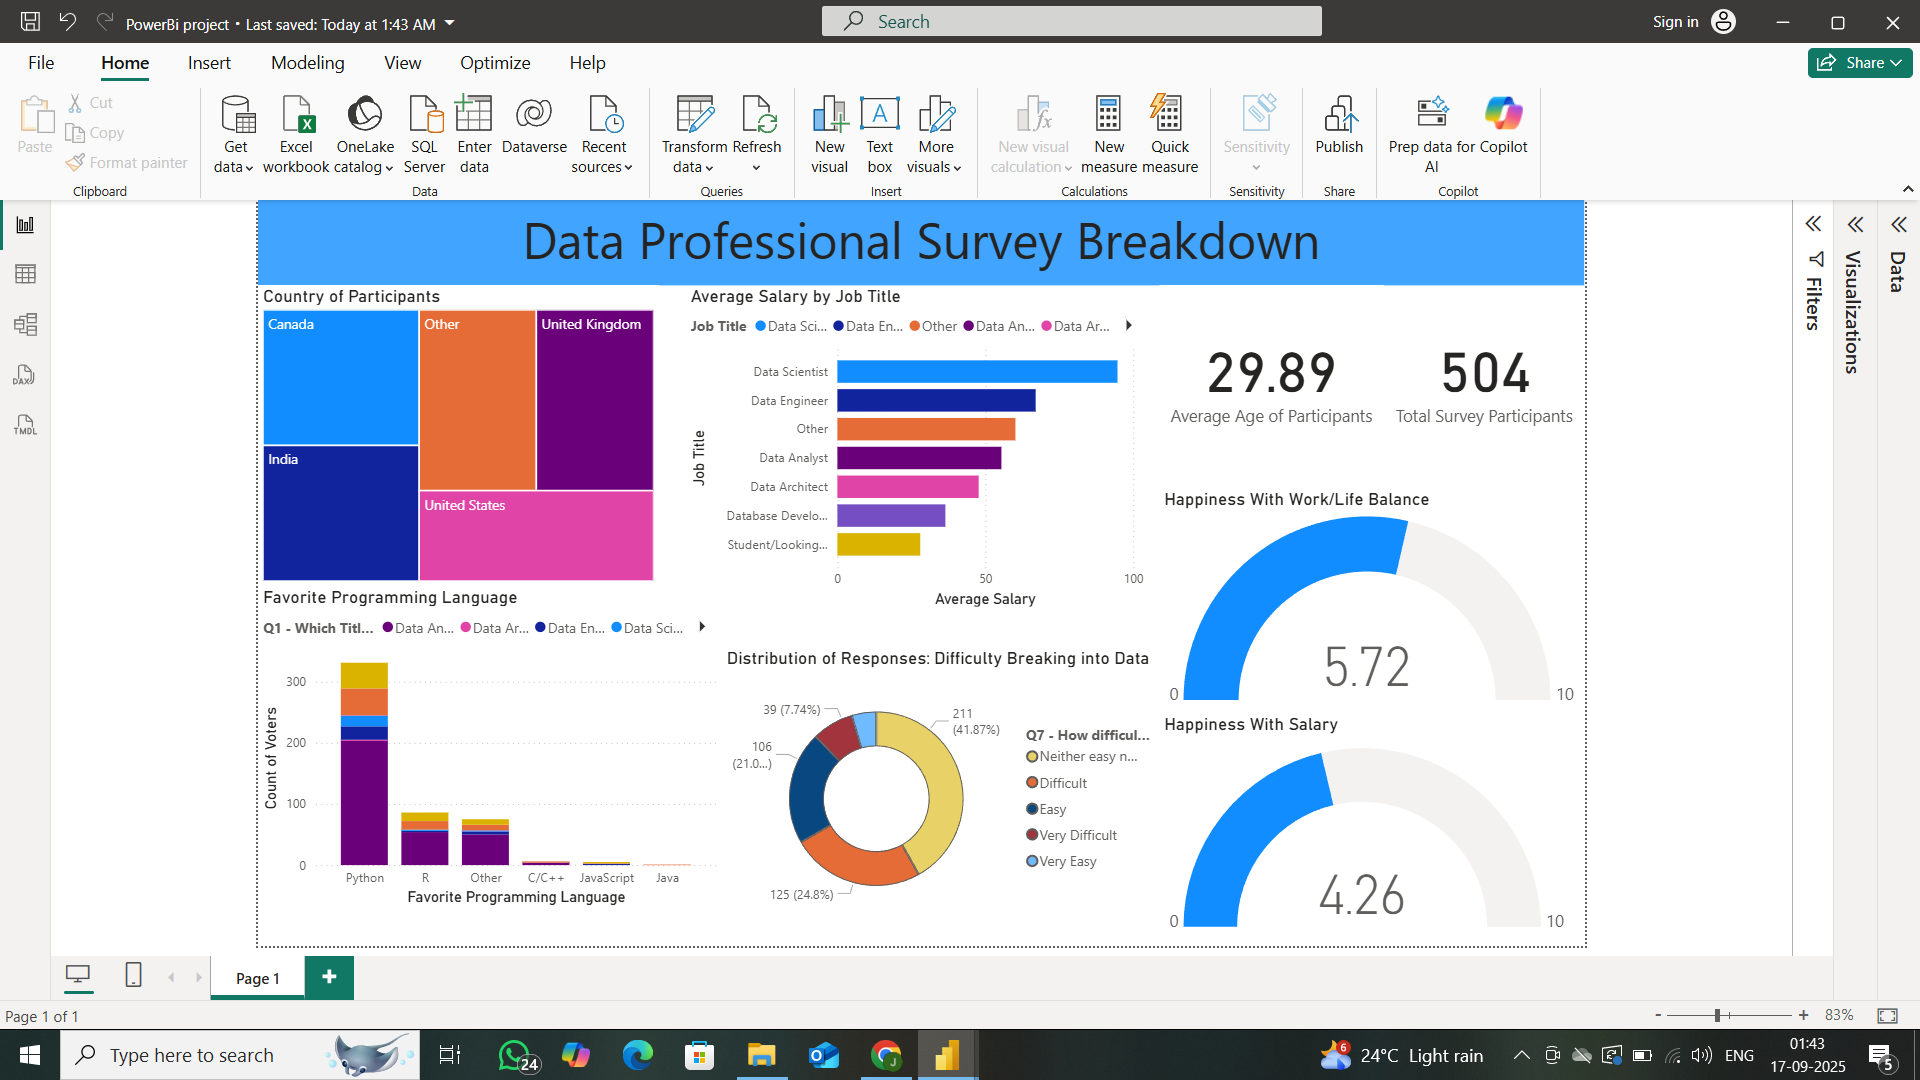

The page's visual inventory and layout, read from the dashboard file:
{"tool":"powerbi","page":{"name":"Page 1","canvas":[1280,720],"ordinal":0},"visuals":[{"type":"barChart","title":"Average Salary by Job Title","fields":{"Category":["Data Professional Survey.Q1 - Which Title Best Fits your Current Role?.1"],"Y":["Avg(Data Professional Survey.Average Salary)"],"Series":["Data Professional Survey.Q1 - Which Title Best Fits your Current Role?.1"]},"box":[413,82.3,447.3,315.6],"z":0},{"type":"card","fields":{"Values":["CountNonNull(Data Professional Survey.Unique ID)"]},"box":[1086.8,90.6,193.5,159.2],"z":1},{"type":"textbox","box":[0,0,1280.3,82.3],"z":2},{"type":"card","fields":{"Values":["Avg(Data Professional Survey.Q10 - Current Age)"]},"box":[870,82.3,216.8,175.6],"z":3},{"type":"columnChart","title":"Favorite Programming Language","fields":{"Category":["Data Professional Survey.Q5 - Favorite Programming Language.1"],"Y":["CountNonNull(Data Professional Survey.Unique ID)"],"Series":["Data Professional Survey.Q1 - Which Title Best Fits your Current Role?.1"]},"box":[0,373.2,447.3,312.9],"z":4},{"type":"treemap","title":"Country of Participants","fields":{"Group":["Data Professional Survey.Q11 - Which Country do you live in?.1"],"Values":["Count(Data Professional Survey.Q11 - Which Country do you live in?.1)"]},"box":[0,82.3,387,290.9],"z":5},{"type":"gauge","title":"Happiness With Work/Life Balance","fields":{"Y":["Avg(Data Professional Survey.Q6 - How Happy are you in your Current Position with the following? (Work/Life Balance))"],"MinValue":["Min(Data Professional Survey.Q6 - How Happy are you in your Current Position with the following? (Work/Life Balance))1"],"MaxValue":["Max(Data Professional Survey.Q6 - How Happy are you in your Current Position with the following? (Work/Life Balance))2"]},"box":[870,278.6,410.3,216.8],"z":6},{"type":"gauge","title":"Happiness With Salary","fields":{"Y":["Avg(Data Professional Survey.Q6 - How Happy are you in your Current Position with the following? (Salary))"],"MinValue":["Min(Data Professional Survey.Q6 - How Happy are you in your Current Position with the following? (Salary))1"],"MaxValue":["Max(Data Professional Survey.Q6 - How Happy are you in your Current Position with the following? (Salary))2"]},"box":[870,495.4,400.7,225],"z":7},{"type":"donutChart","title":"Distribution of Responses: Difficulty Breaking into Data","fields":{"Category":["Data Professional Survey.Q7 - How difficult was it for you to break into Data?"],"Y":["CountNonNull(Data Professional Survey.Q7 - How difficult was it for you to break into Data?)"]},"box":[447.3,432.2,422.6,273.1],"z":8}]}

Visuals, with their boxes on the page's 1280x720 design canvas (x1, y1, x2, y2). These are canvas units, not pixel positions in the 1920x1080 screenshot, which may show the page scaled, cropped or inside an application window:
"Average Salary by Job Title" barChart: 413:82:860:398
card - CountNonNull(Data Professional Survey.Unique ID): 1087:91:1280:250
textbox: 0:0:1280:82
card - Avg(Data Professional Survey.Q10 - Current Age): 870:82:1087:258
"Favorite Programming Language" columnChart: 0:373:447:686
"Country of Participants" treemap: 0:82:387:373
"Happiness With Work/Life Balance" gauge: 870:279:1280:495
"Happiness With Salary" gauge: 870:495:1271:720
"Distribution of Responses: Difficulty Breaking into Data" donutChart: 447:432:870:705
